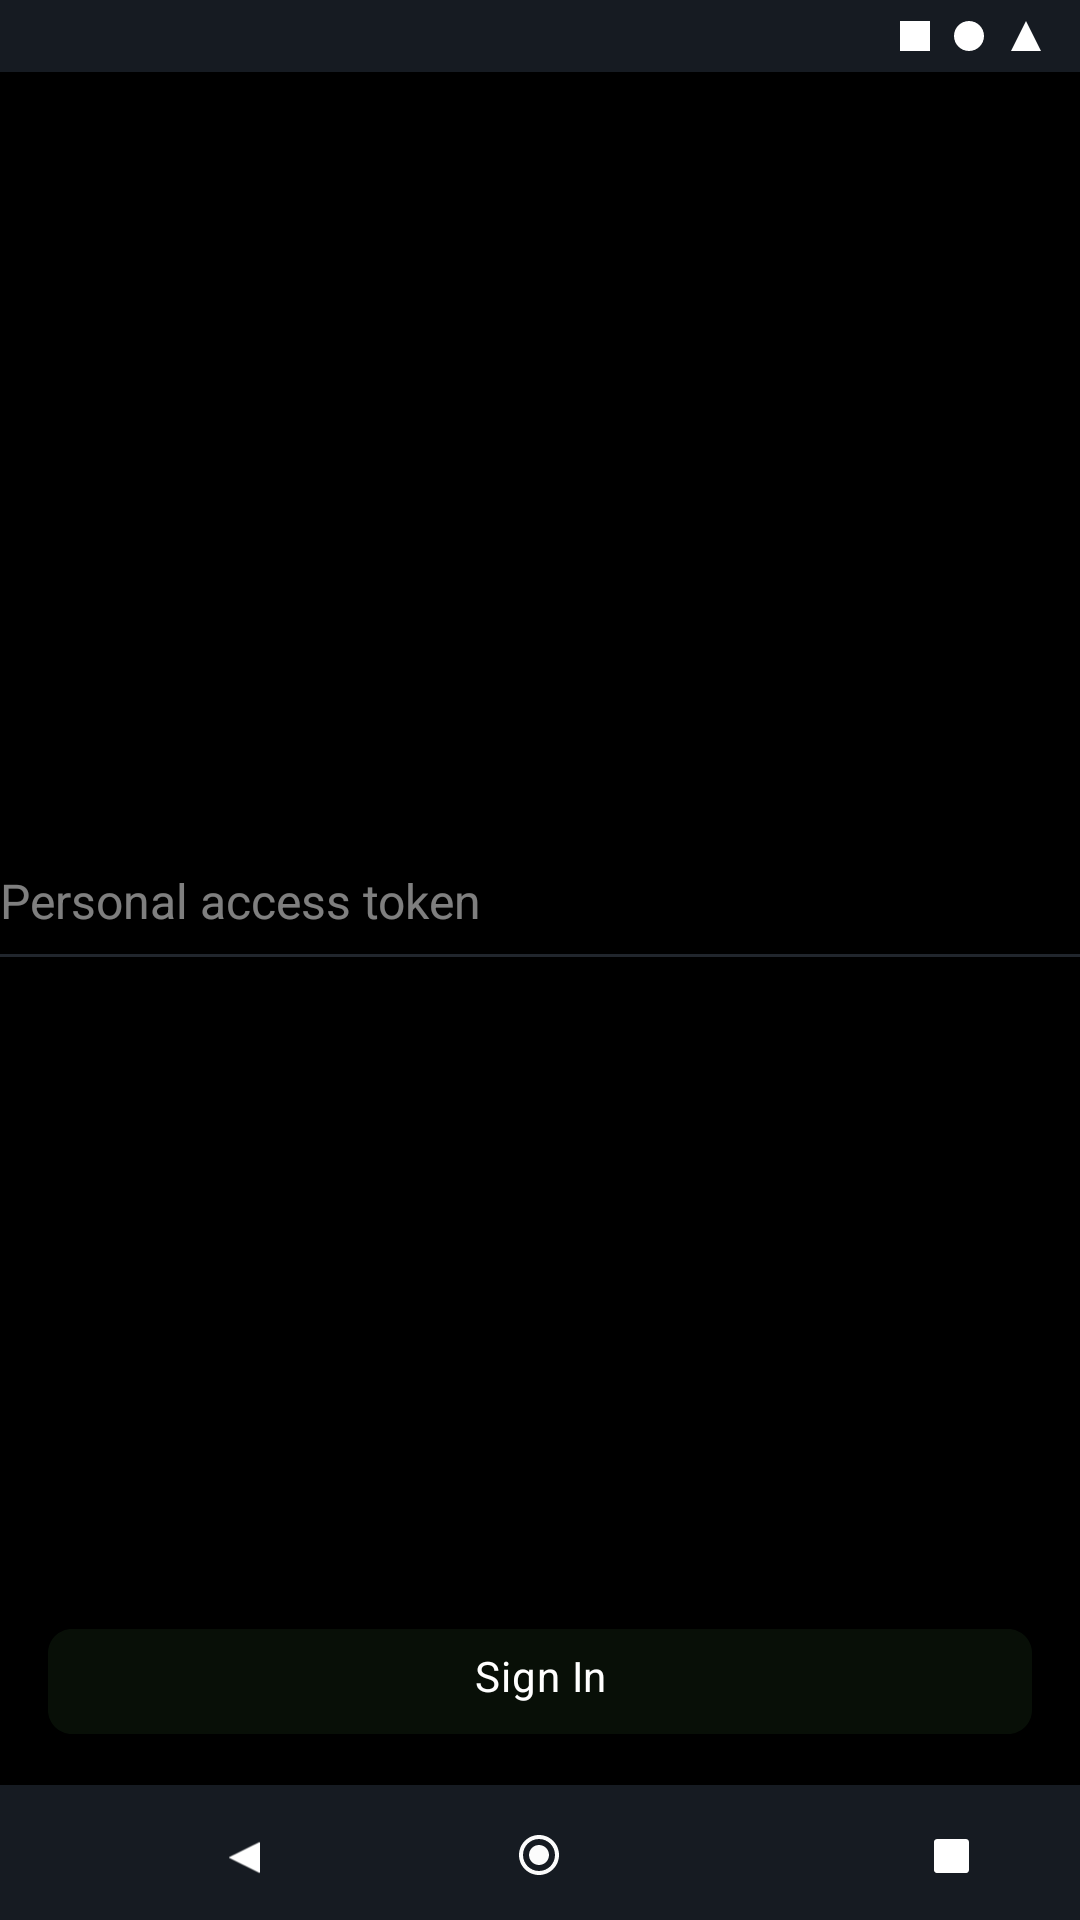

Named icons in this screenshot (1080px×1920px) and their centers, (x,y):
radio checked: (539,1855)
